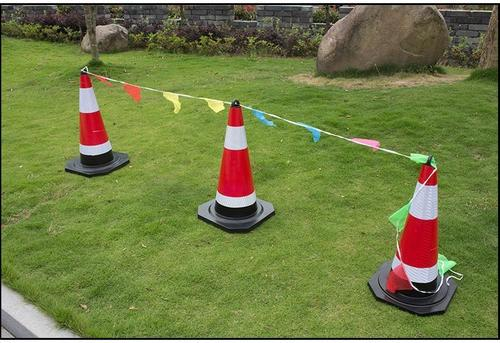cone_barrel: (375, 158, 450, 302), (201, 95, 267, 226), (66, 67, 121, 177)
